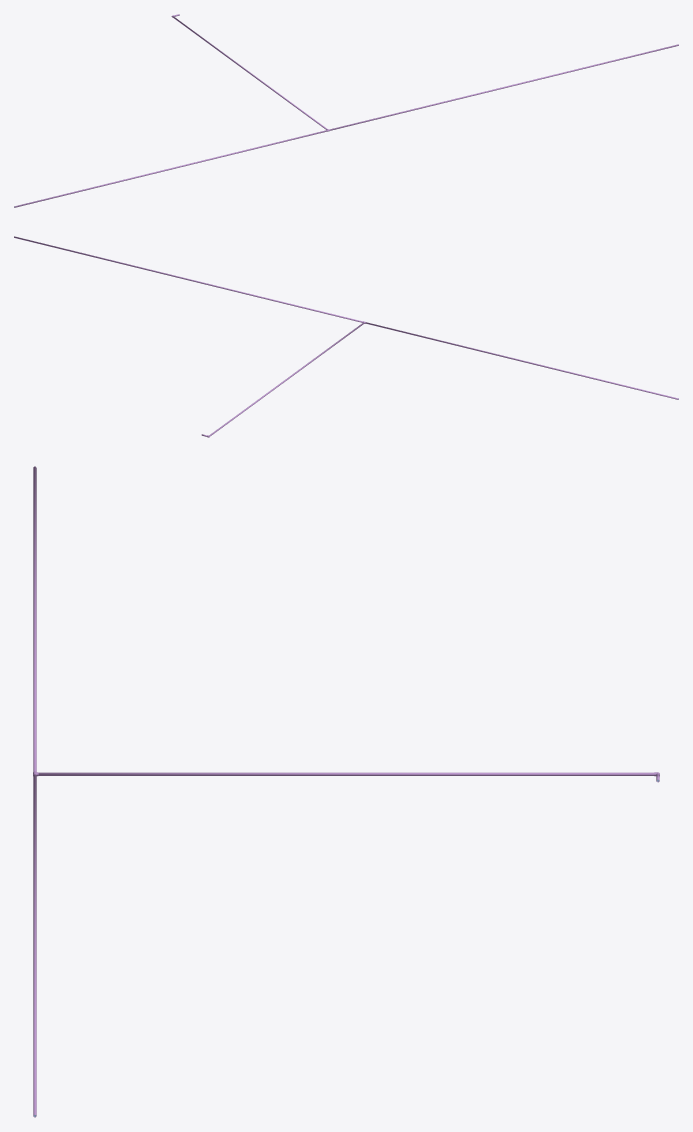
The model's file is slab_pipes_dwv__sewer__44c0ab5d.glb.
The picture shows the model from 3 angles, top to bottom: view 1: azimuth 30°, elevation 25°; view 2: azimuth 150°, elevation 25°; view 3: azimuth 270°, elevation 25°; orthographic projection. The views are drawn at different scales.
Visible parts, largest first — view 1: pipe_septic_spray_line_2, pipe_septic_spray_line_3; view 2: pipe_septic_spray_line_2, pipe_septic_spray_line_3; view 3: pipe_septic_spray_line_2, pipe_septic_spray_line_3.
Part boxes in pixels (<box>): pipe_septic_spray_line_2: <box>14,44,678,207</box>; pipe_septic_spray_line_3: <box>171,14,326,129</box>; pipe_septic_spray_line_2: <box>14,236,678,399</box>; pipe_septic_spray_line_3: <box>201,322,364,437</box>; pipe_septic_spray_line_2: <box>33,466,36,1117</box>; pipe_septic_spray_line_3: <box>38,772,659,782</box>.
Size of the model in its own units: 16.51 by 0.041 by 6.75.
